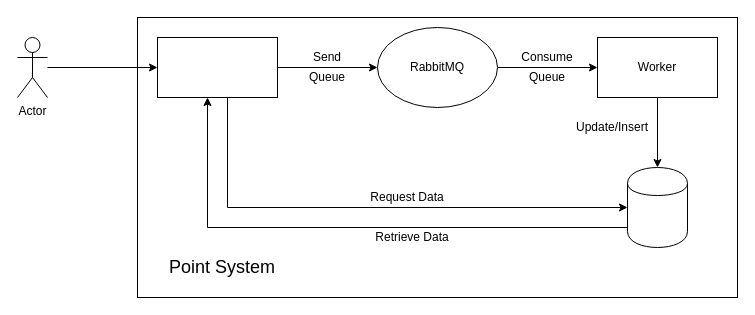
The diagram is 755 pixels wide and 315 high, and some of its shapes have lost their labels. Here are the shapes that lost their labels. From the top down, the box of each, then its label:
(156, 36, 278, 98): REST API
(626, 166, 688, 248): DB
